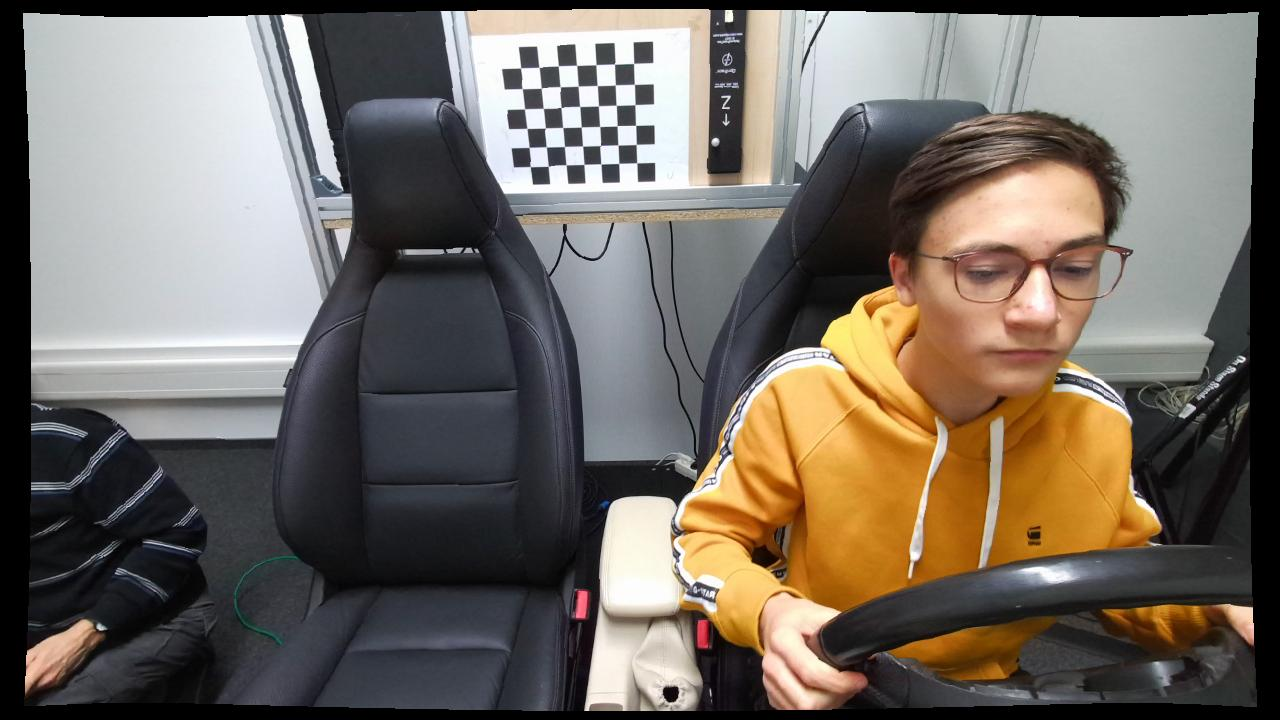Distracted: (670, 95, 1144, 706)
